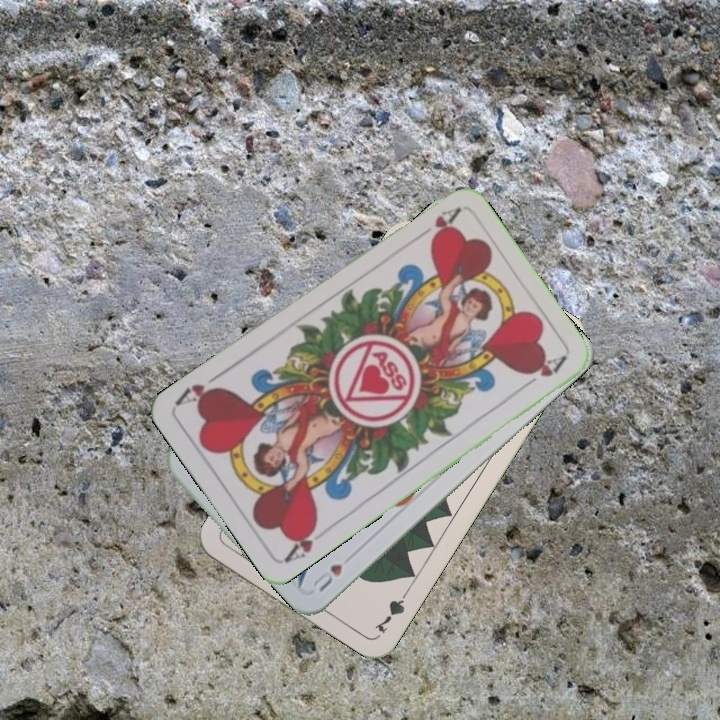G7: (370, 584, 413, 636)
HA: (280, 517, 332, 565), (410, 204, 463, 244)
HU: (307, 559, 345, 595)
